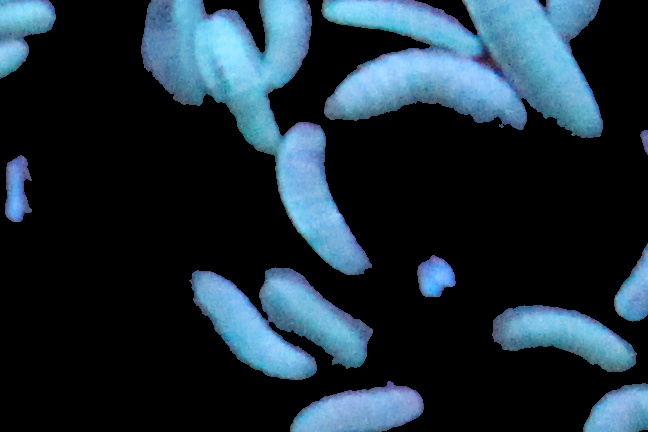larvae: (450, 1, 614, 128), (328, 54, 522, 127), (278, 119, 363, 278), (198, 288, 326, 388), (487, 302, 637, 380), (258, 260, 362, 372), (214, 12, 282, 148), (310, 1, 486, 52), (142, 1, 214, 124), (277, 385, 428, 432), (257, 1, 311, 83), (1, 2, 55, 34)
